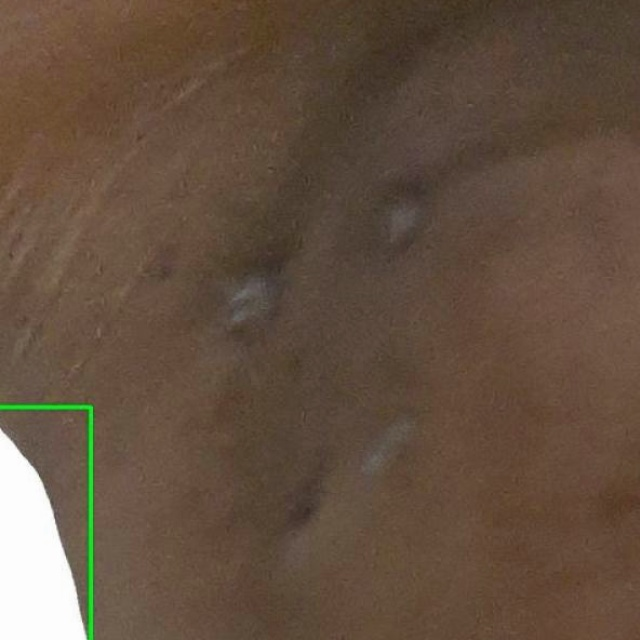Contact Dermatitis: (0, 407, 90, 639)
